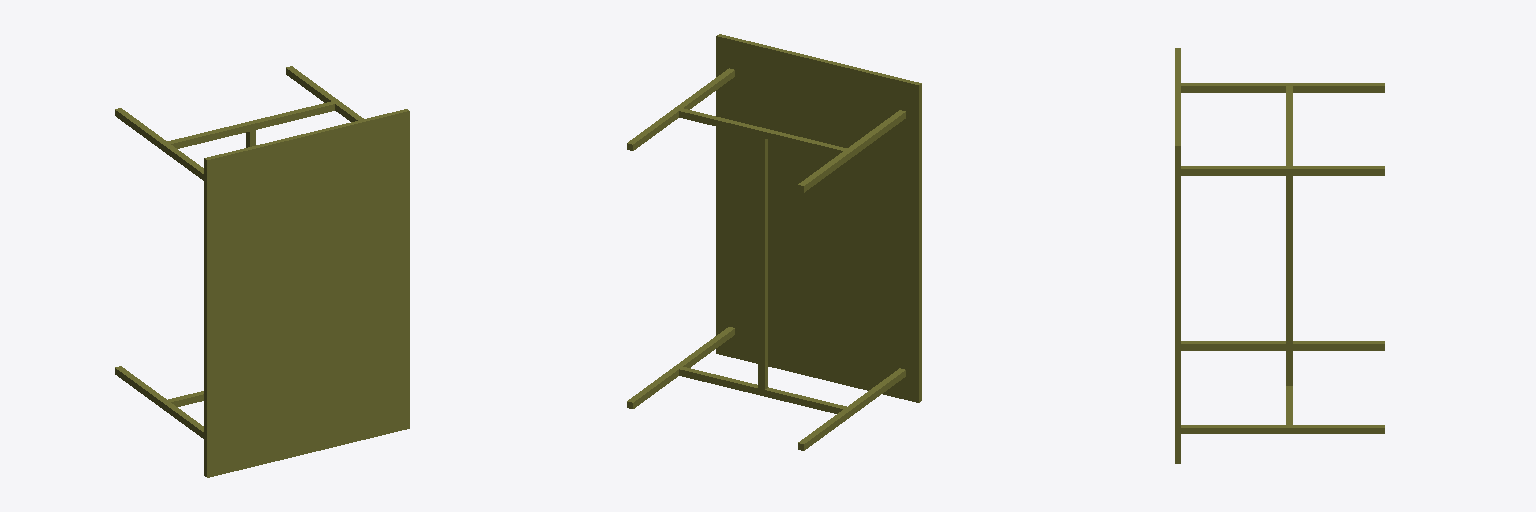
The model's file is MesaPC.obj.
3 renders of one model, left to right at view 1: azimuth 30°, elevation 25°; view 2: azimuth 150°, elevation 25°; view 3: azimuth 270°, elevation 25°, orthographic.
Size of the model in its own units: 80 by 120 by 72.